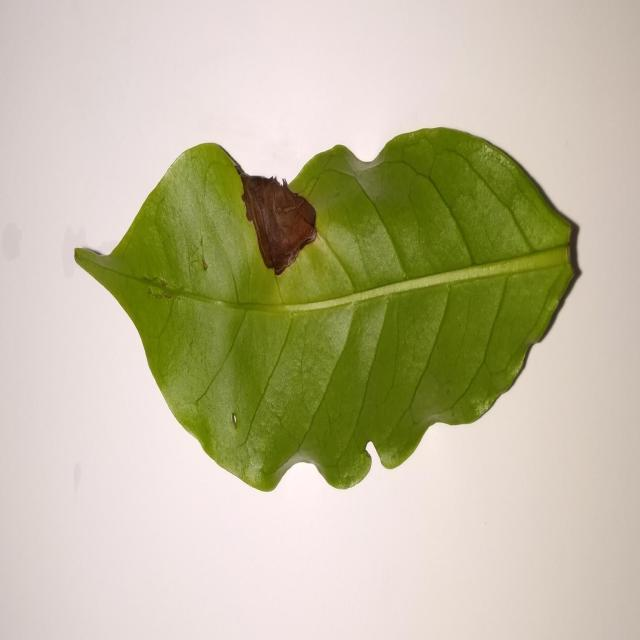Enfermedad-Antracnosis: (72, 127, 582, 495)
